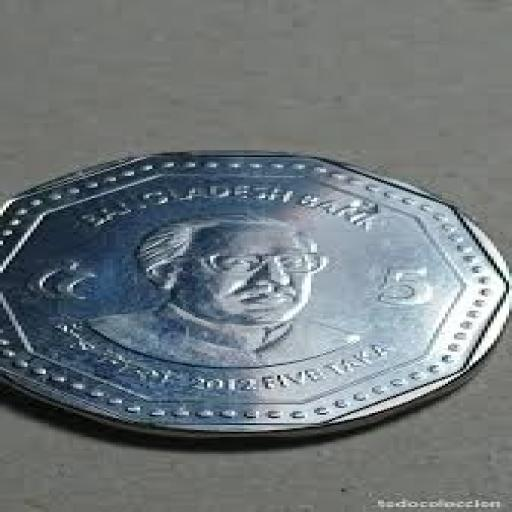5taka: (0, 152, 509, 433)
